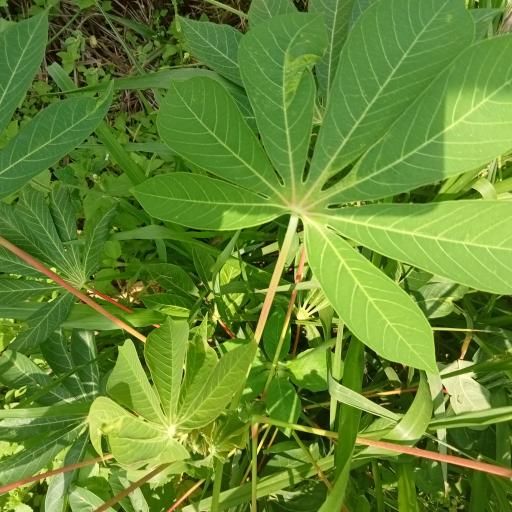Cassava_Healthy: (135, 2, 512, 370), (86, 323, 256, 463)
